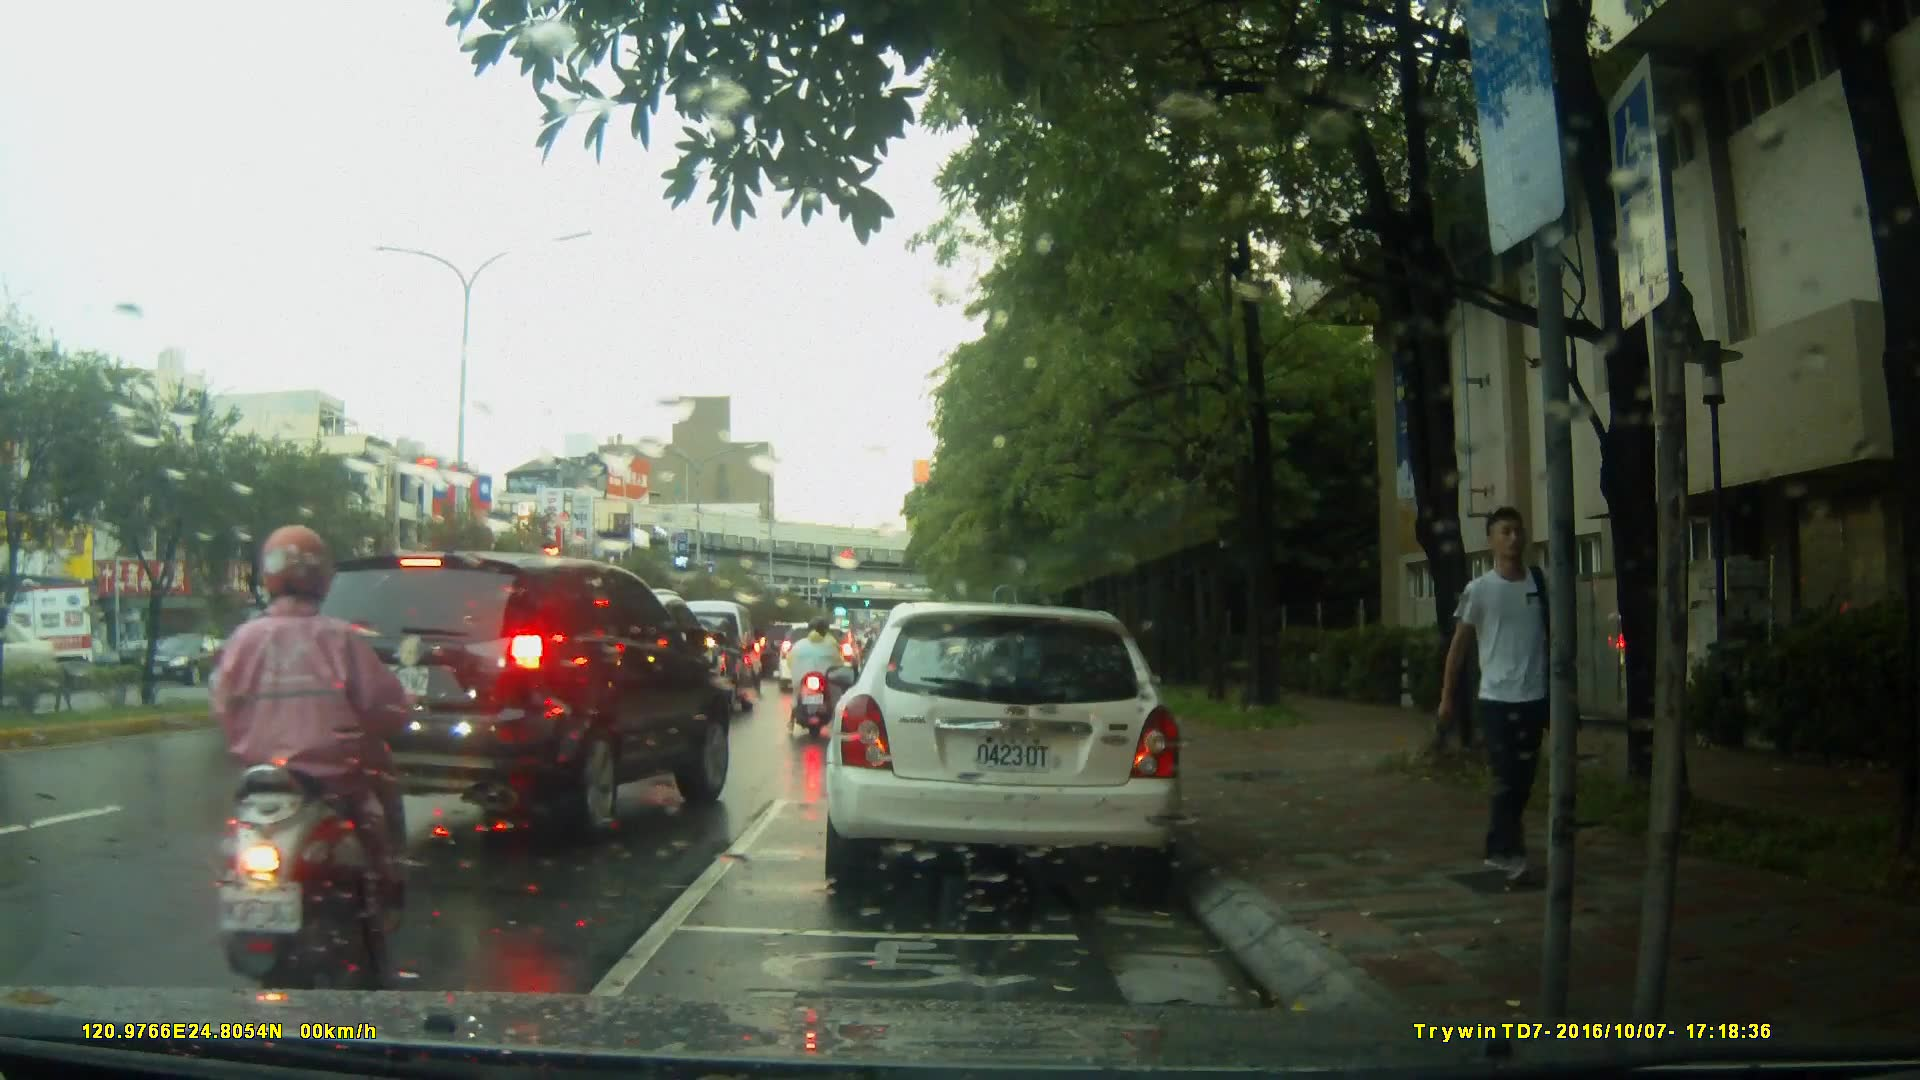pedestrian: (1437, 499, 1580, 895)
rider: (219, 526, 428, 999), (789, 625, 846, 736), (804, 621, 841, 709)
vehicle: (298, 550, 733, 844), (820, 602, 1188, 898), (134, 631, 247, 686), (776, 621, 855, 696), (1, 611, 60, 698)
